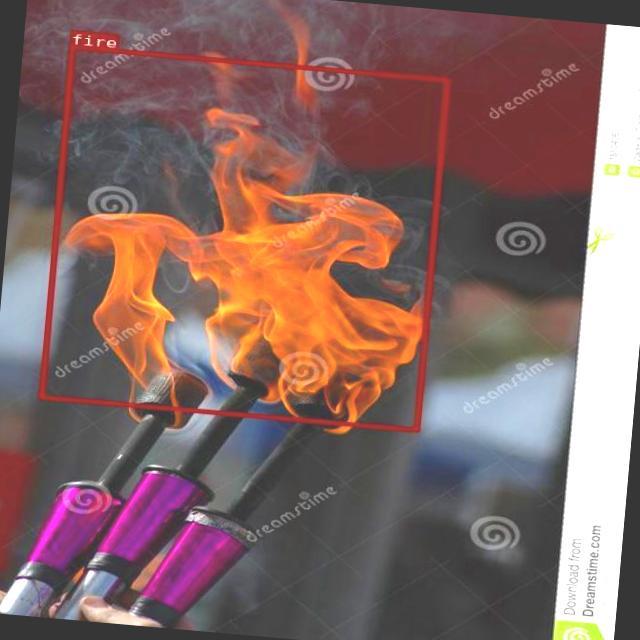fire: (38, 44, 448, 431)
